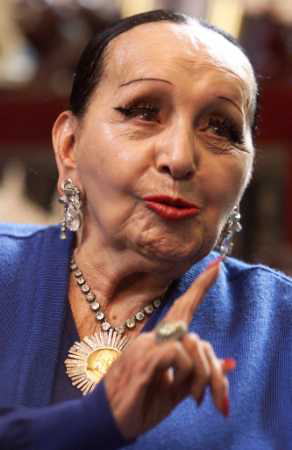Face: (82, 57, 268, 280)
